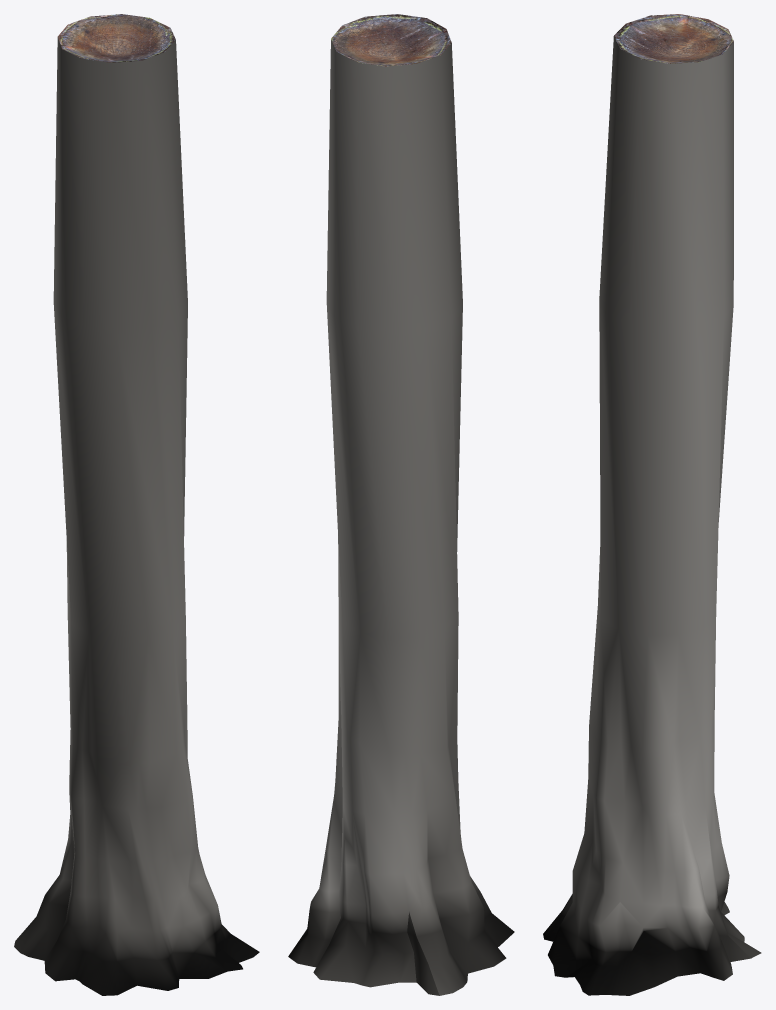
File: SM_Prop_Log_01.FBX
3 views of the same model, side by side, from view 1: azimuth 30°, elevation 25°; view 2: azimuth 150°, elevation 25°; view 3: azimuth 270°, elevation 25° (orthographic).
Parts seen in each view (by area): view 1: SM_Prop_Log_01; view 2: SM_Prop_Log_01; view 3: SM_Prop_Log_01.
Boxes of the visible parts, box(x1,y1,x2,y2) form: SM_Prop_Log_01: box(14, 14, 259, 995); SM_Prop_Log_01: box(288, 14, 514, 995); SM_Prop_Log_01: box(543, 14, 761, 995).
Bounding box in the file's own units: 0.5865 × 2.72 × 0.5911.
